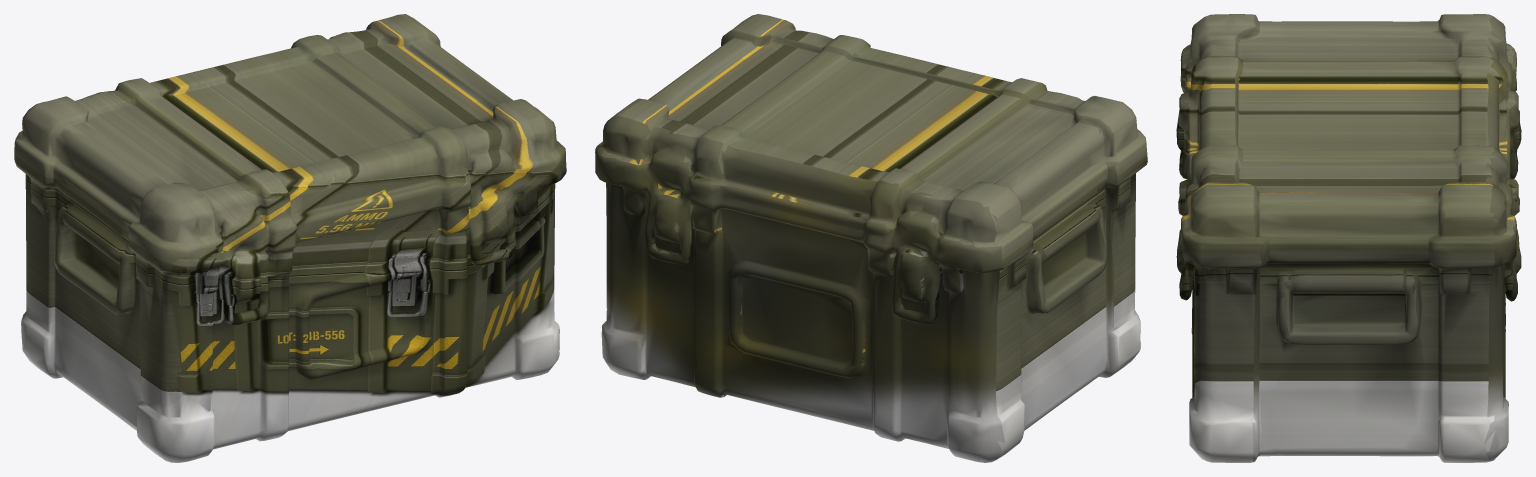
The model's file is ammo_crate.glb.
3 renders of one model, left to right at view 1: azimuth 30°, elevation 25°; view 2: azimuth 150°, elevation 25°; view 3: azimuth 270°, elevation 25°, orthographic. The views are drawn at different scales.
Parts seen in each view (by area): view 1: ammo_crate; view 2: ammo_crate; view 3: ammo_crate.
Part boxes in pixels (left/top/right/bottom): ammo_crate: left=14, top=14, right=566, bottom=462; ammo_crate: left=595, top=14, right=1147, bottom=462; ammo_crate: left=1176, top=14, right=1521, bottom=462.
Bounding box in the file's own units: 1.5 × 0.9054 × 1.07.
1 material, 1 textured.
